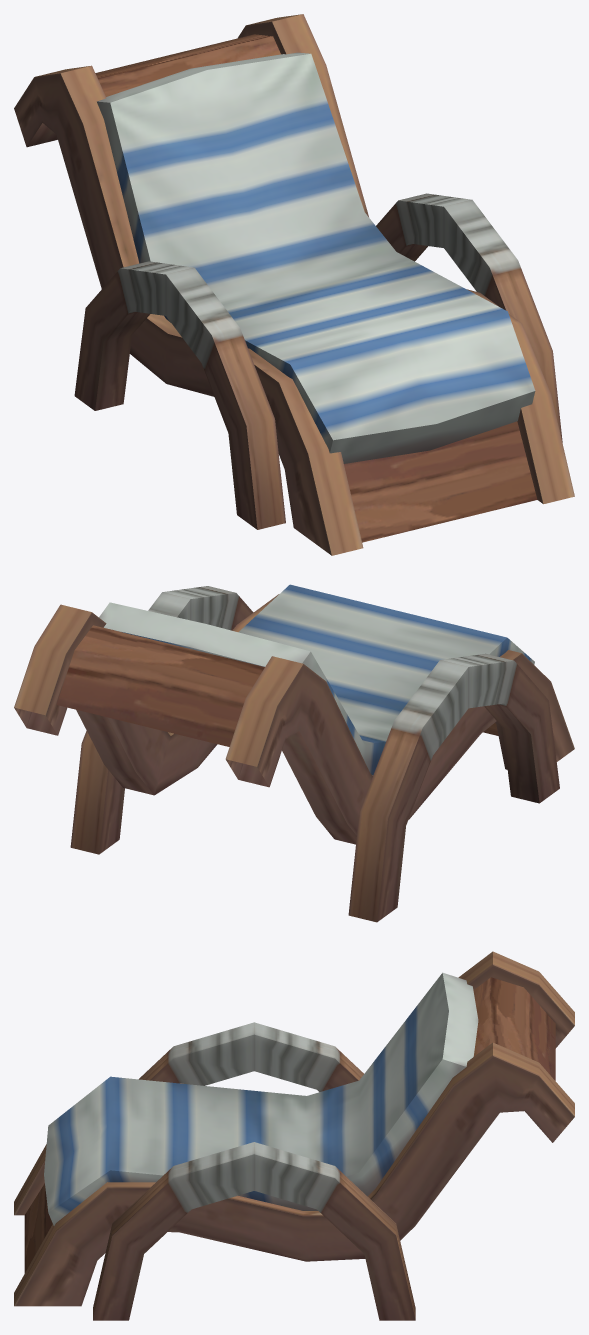
File: Map_05_chair01.FBX
The picture shows the model from 3 angles, top to bottom: view 1: azimuth 30°, elevation 25°; view 2: azimuth 150°, elevation 25°; view 3: azimuth 270°, elevation 25°; orthographic projection. The views are drawn at different scales.
Visible parts, largest first — view 1: Map_05_chair01; view 2: Map_05_chair01; view 3: Map_05_chair01.
Boxes of the visible parts, x1,y1,x2,y2 form: Map_05_chair01: (14,14,574,555); Map_05_chair01: (14,584,574,922); Map_05_chair01: (14,951,574,1320).
Size of the model in its own units: 106 by 190 by 93.75.
